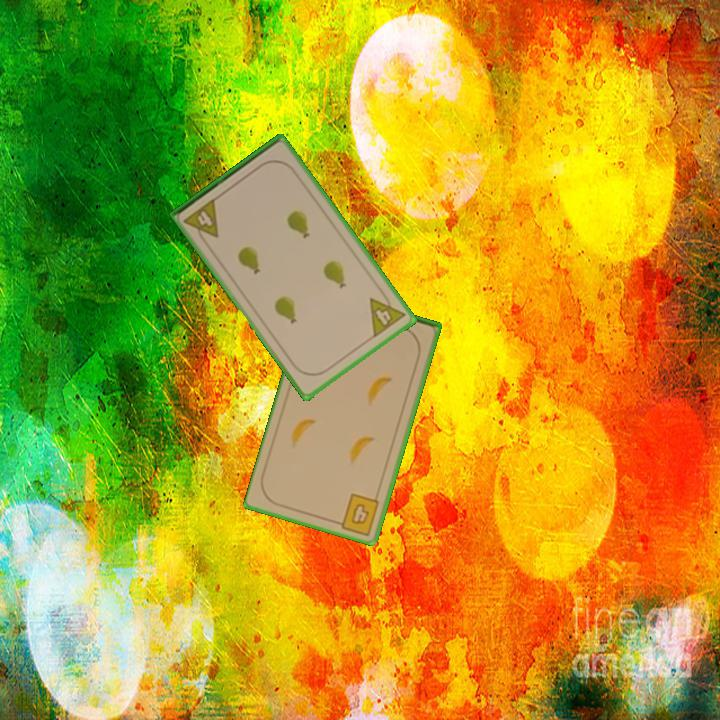4b: (332, 490, 382, 537)
4p: (366, 287, 408, 341), (180, 195, 222, 247)
